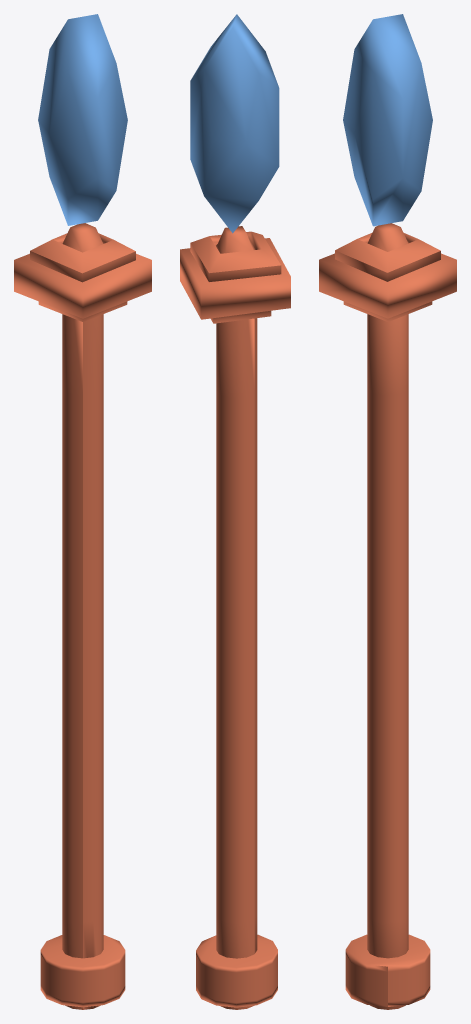
File: wizard_of_war_staff.fbx
The picture shows the model from 3 angles, left to right: view 1: azimuth 90°, elevation 25°; view 2: azimuth 150°, elevation 25°; view 3: azimuth 270°, elevation 25°; orthographic projection.
Parts seen in each view (by area): view 1: staff_mesh; view 2: staff_mesh; view 3: staff_mesh.
Boxes of the visible parts, <box> form: staff_mesh: <box>14,14,151,1009</box>; staff_mesh: <box>180,14,290,1009</box>; staff_mesh: <box>319,14,456,1009</box>.
Bounding box in the file's own units: 14.82 × 125 × 15.9.
